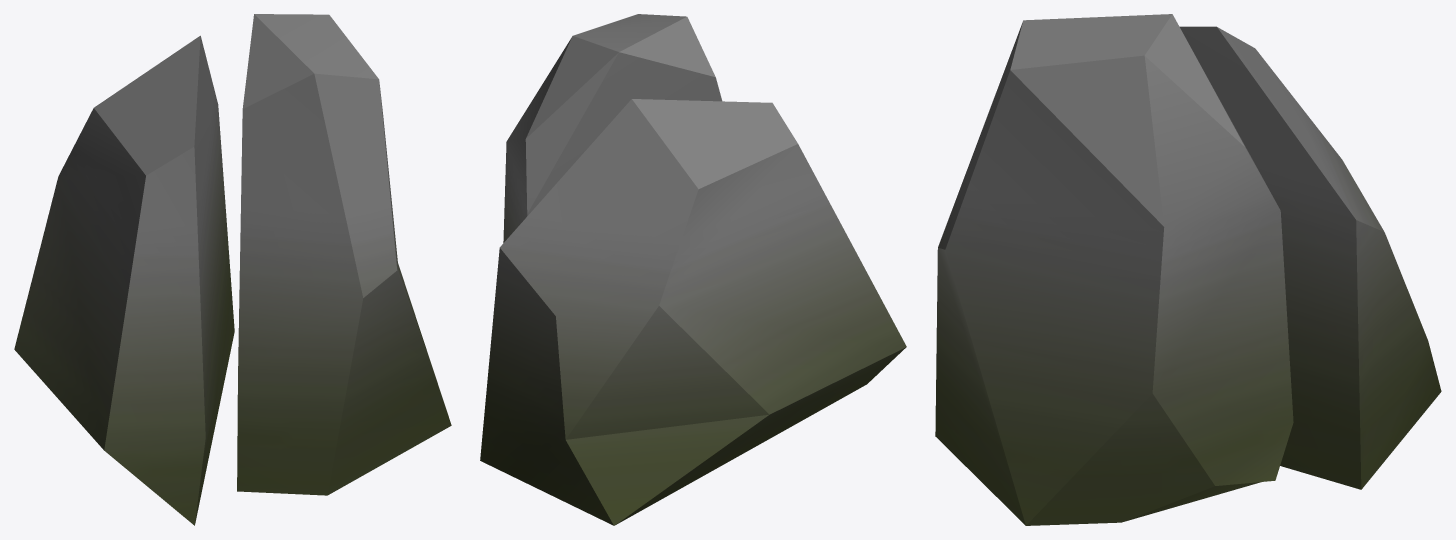
The model's file is ea_environment_stone_moss_01b_pre_lev1.glb.
The picture shows the model from 3 angles, left to right: view 1: azimuth 30°, elevation 25°; view 2: azimuth 150°, elevation 25°; view 3: azimuth 270°, elevation 25°; orthographic projection. The views are drawn at different scales.
Visible parts, largest first — view 1: ea_environment_stone_moss_01b_pre_lev1; view 2: ea_environment_stone_moss_01b_pre_lev1; view 3: ea_environment_stone_moss_01b_pre_lev1.
Part boxes in pixels (x1,y1,x2,y2): ea_environment_stone_moss_01b_pre_lev1: (14,14,451,525); ea_environment_stone_moss_01b_pre_lev1: (480,14,906,525); ea_environment_stone_moss_01b_pre_lev1: (935,14,1441,525).
Bounding box in the file's own units: 2.24 × 2.31 × 2.41.
1 material, 1 textured.
